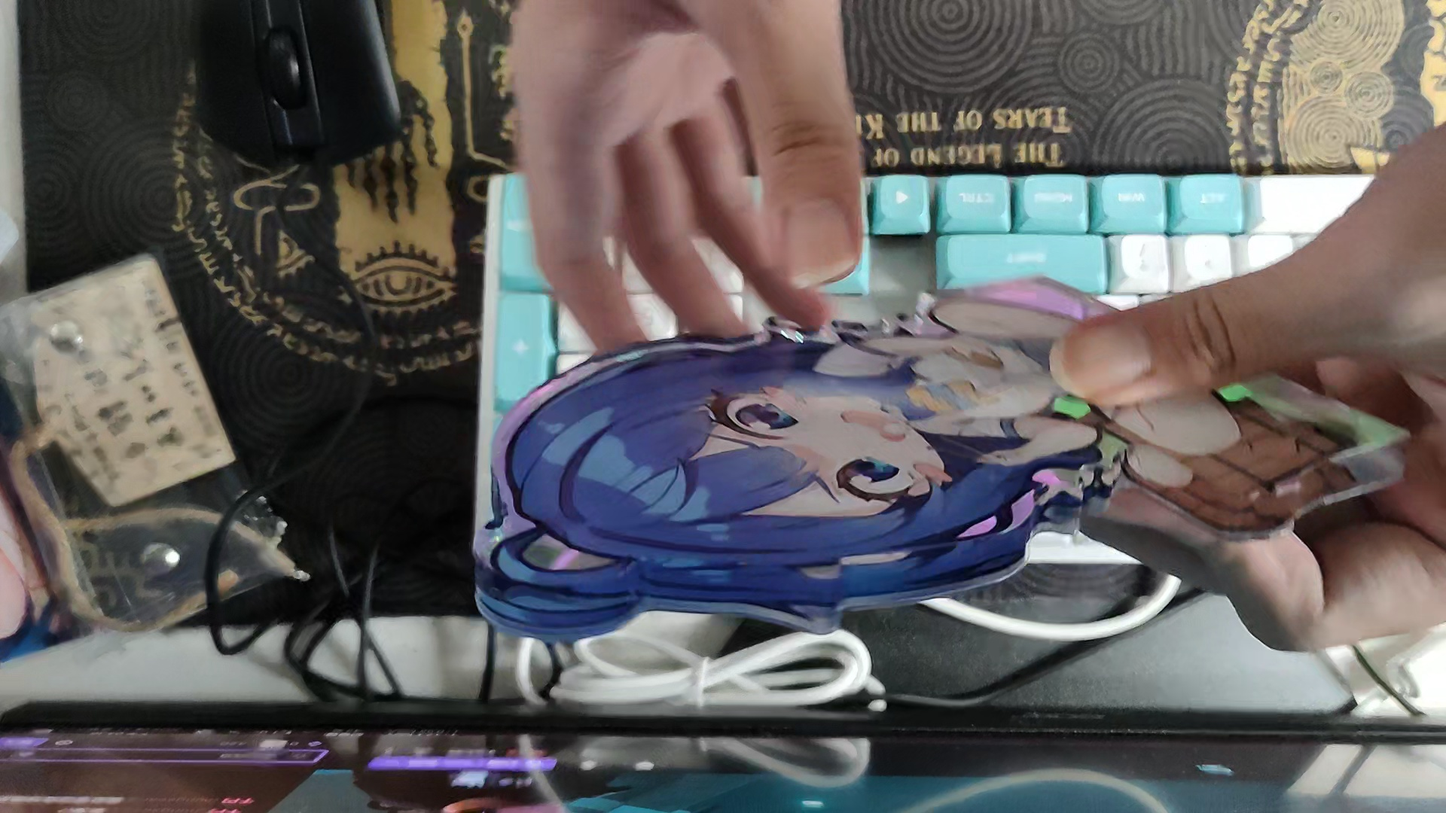Yanami-anna: (474, 270, 1408, 644)
